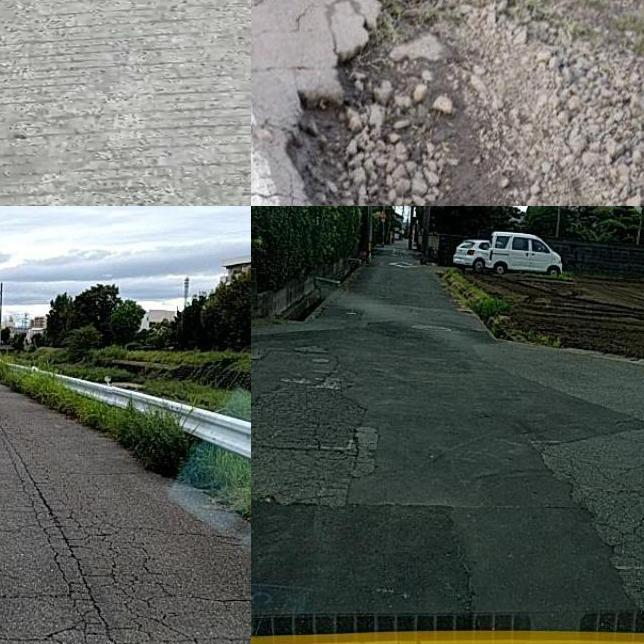Pinggir: (268, 0, 544, 206)
Retak Buaya: (0, 498, 214, 644)
Sambungan: (333, 355, 644, 623), (0, 0, 251, 206)
